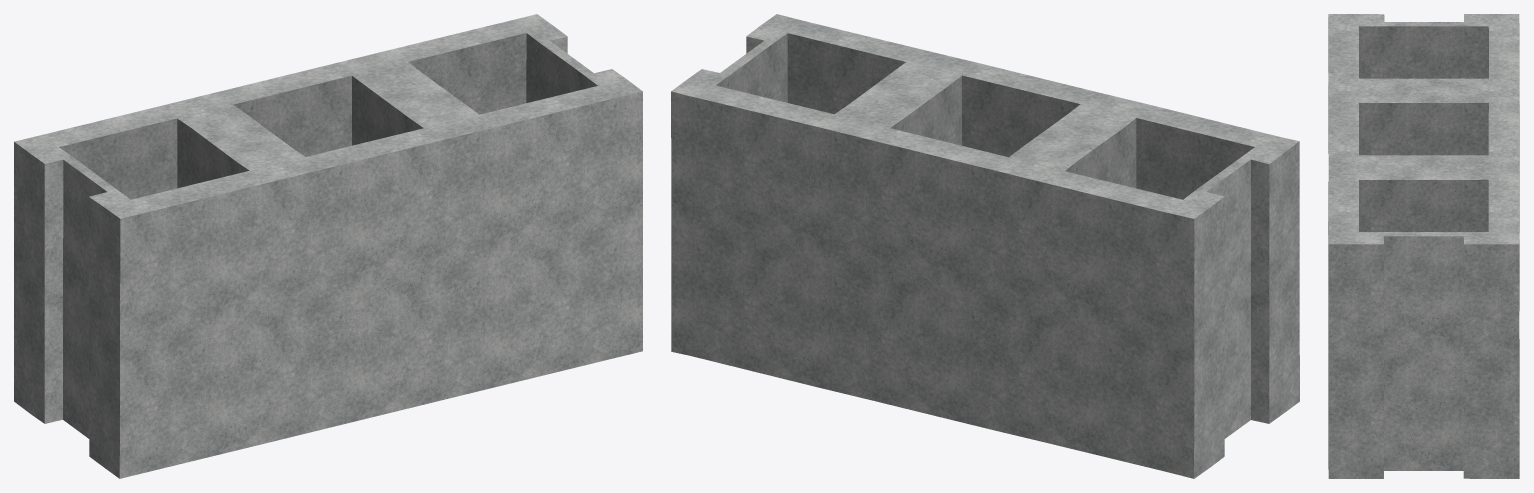
The model's file is cement-block-3-void-interlocking.glb.
The picture shows the model from 3 angles, left to right: view 1: azimuth 30°, elevation 25°; view 2: azimuth 150°, elevation 25°; view 3: azimuth 270°, elevation 25°; orthographic projection. The views are drawn at different scales.
Visible parts, largest first — view 1: cement-block-3-void-interlocking; view 2: cement-block-3-void-interlocking; view 3: cement-block-3-void-interlocking.
Boxes of the visible parts, x1,y1,x2,y2 form: cement-block-3-void-interlocking: (14, 14, 642, 478); cement-block-3-void-interlocking: (671, 14, 1299, 478); cement-block-3-void-interlocking: (1328, 14, 1519, 478).
Bounding box in the file's own units: 0.4004 × 0.1904 × 0.1404.
1 material, 1 textured.
